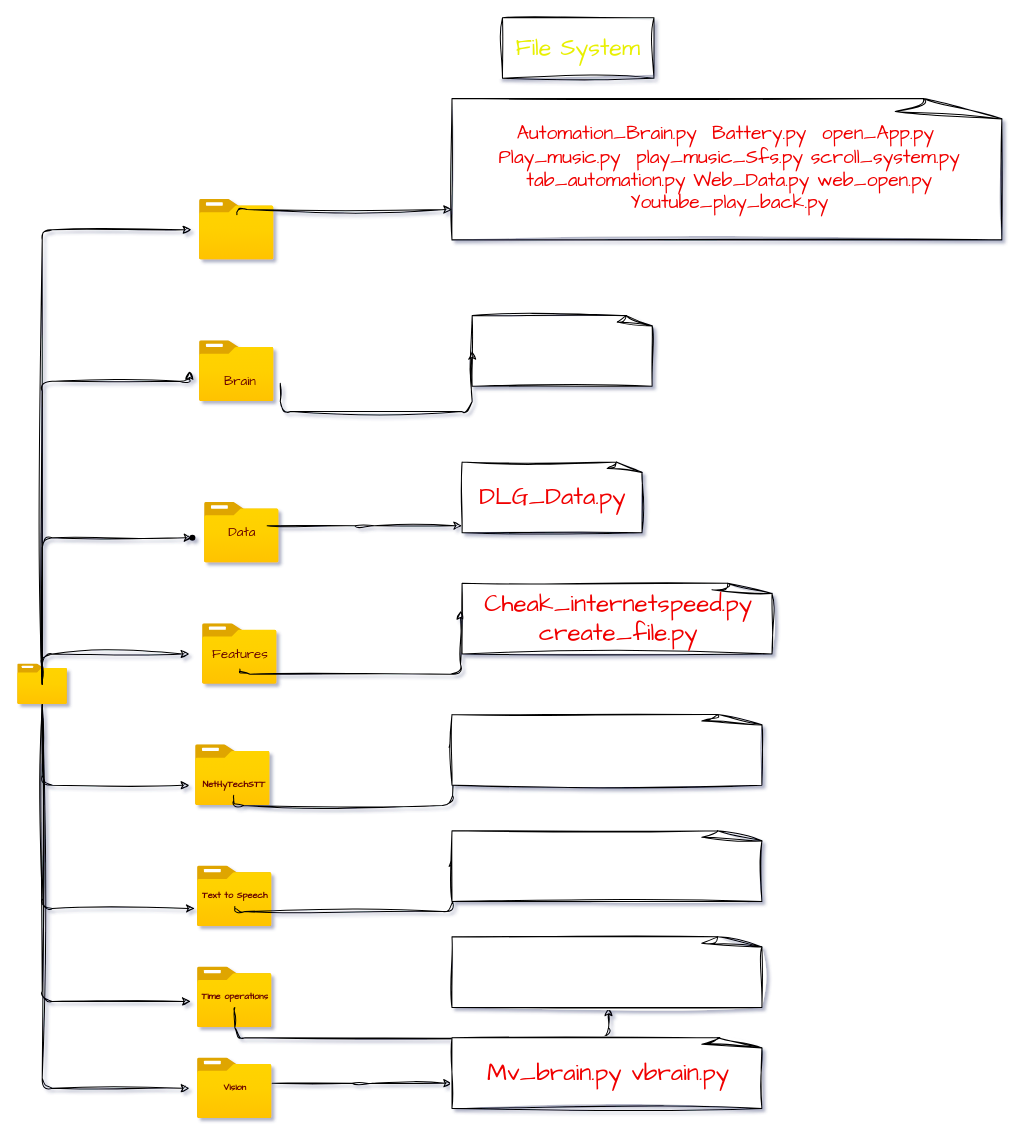
This 1032x1142 diagram has some shape labels left out. Each missing label, with the box of its shape:
Automation: (199, 199, 274, 260)
Brain.py: (471, 315, 654, 386)
brain.py throw_alert.py: (451, 936, 765, 1007)
Fast_Df_tts.py: (451, 830, 765, 901)
JARVIS: (17, 664, 67, 704)
Listen.py: (451, 714, 765, 785)
